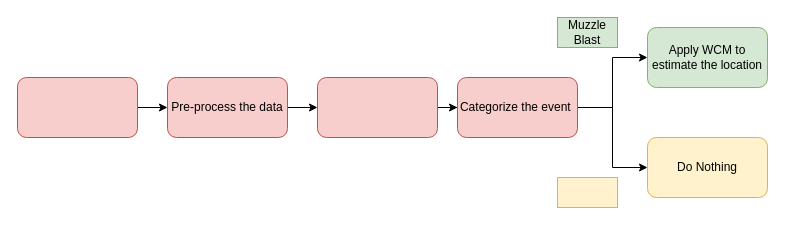
This 785x233 diagram has some shape labels left out. Each missing label, with the box of its shape:
Detect and Remove Reflection Artifacts if any: (316, 76, 438, 138)
Other: (556, 176, 618, 208)
Read the 4-channel Microphone Data: (16, 76, 138, 138)
